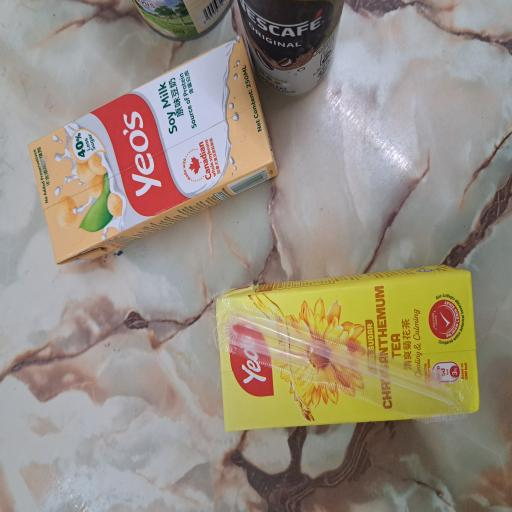drink carton: (185, 37, 358, 363), (58, 286, 185, 512)
